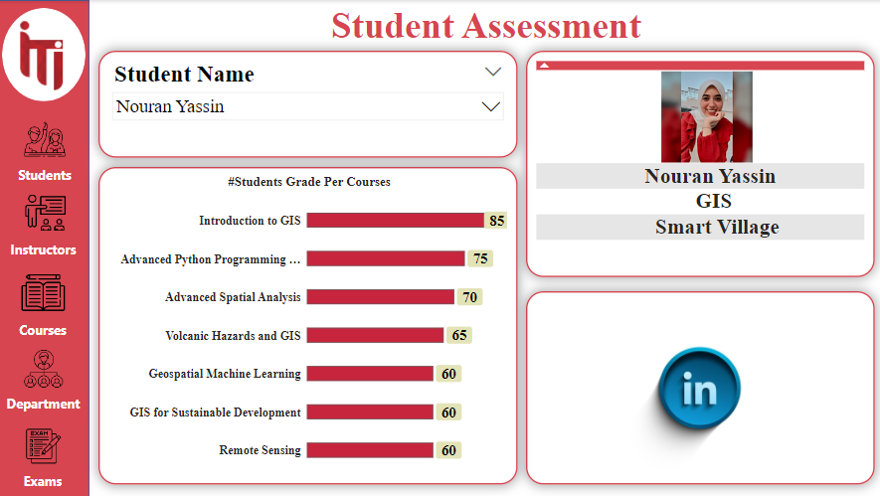

This screenshot's page, from the dashboard's own definition file:
{"tool":"powerbi","page":{"name":"Student Assessment","canvas":[1280,720],"ordinal":12},"visuals":[{"type":"textbox","box":[131.2,0,1148.8,79],"z":0},{"type":"image","box":[7.2,272.1,119.5,72],"z":0,"group":"g1"},{"type":"shape","box":[0,0,131,720],"z":1000},{"type":"image","box":[5.7,167,121,69.1],"z":1000,"group":"g1"},{"type":"shape","box":[4.3,11.5,121,135.4],"z":2000},{"type":"textbox","box":[11.5,236.1,109.4,36],"z":2000,"group":"g1"},{"type":"image","box":[0,11.5,125.3,123.8],"z":3000},{"type":"textbox","box":[1.4,344.1,125.3,43.2],"z":3000,"group":"g1"},{"type":"pivotTable","title":"Male Percentage Of Completing  Freelancing Job","fields":{"Rows":["Fact | student.Std Image","Fact | student.Student Full name","Dim | tracks.TrackName","Dim | Branch.BranchName"]},"box":[763.9,73.2,504.9,327.8],"z":4000},{"type":"image","box":[1.4,387.3,125.3,73.4],"z":4000,"group":"g1"},{"type":"image","box":[763.9,421.5,504.9,279.5],"z":5000},{"type":"image","box":[1.4,613.4,125.3,66.2],"z":5000,"group":"g1"},{"type":"clusteredBarChart","title":"Students  Grade Per Courses","fields":{"Category":["Dim | courses.CourseName"],"Y":["Sum(Fact | student.Student_Courses.1.StudentDegree)"]},"box":[143.3,241.7,606.7,460],"z":6000},{"type":"textbox","box":[1.4,460.8,123.8,43.2],"z":6000,"group":"g1"},{"type":"slicer","fields":{"Values":["Fact | student.Student Full name"]},"box":[143.4,73.2,607.3,155.1],"z":7000},{"type":"textbox","box":[1.4,679.6,123.8,40.3],"z":7000,"group":"g1"},{"type":"group","id":"g1","title":"Group 1","box":[1.4,167,125.3,553],"z":8000},{"type":"image","box":[1.4,501.1,125.3,66.2],"z":8000,"group":"g1"},{"type":"textbox","box":[1.4,567.3,125.3,46.1],"z":9000,"group":"g1"}]}

Visuals, with their boxes in screenshot pixels (x1, y1, x2, y2), scaled from the page's 1280x720 canvas onto the 880x496 screenshot:
textbox: bbox=(90, 0, 879, 54)
image: bbox=(5, 187, 87, 237)
shape: bbox=(0, 0, 90, 495)
image: bbox=(4, 115, 87, 163)
shape: bbox=(3, 8, 86, 101)
textbox: bbox=(8, 163, 83, 187)
image: bbox=(0, 8, 86, 93)
textbox: bbox=(1, 237, 87, 267)
"Male Percentage Of Completing  Freelancing Job" pivotTable: bbox=(525, 50, 872, 276)
image: bbox=(1, 267, 87, 317)
image: bbox=(525, 290, 872, 483)
image: bbox=(1, 423, 87, 468)
"Students  Grade Per Courses" clusteredBarChart: bbox=(99, 167, 516, 483)
textbox: bbox=(1, 317, 86, 347)
slicer - Fact | student.Student Full name: bbox=(99, 50, 516, 157)
textbox: bbox=(1, 468, 86, 495)
"Group 1" group: bbox=(1, 115, 87, 495)
image: bbox=(1, 345, 87, 391)
textbox: bbox=(1, 391, 87, 423)
